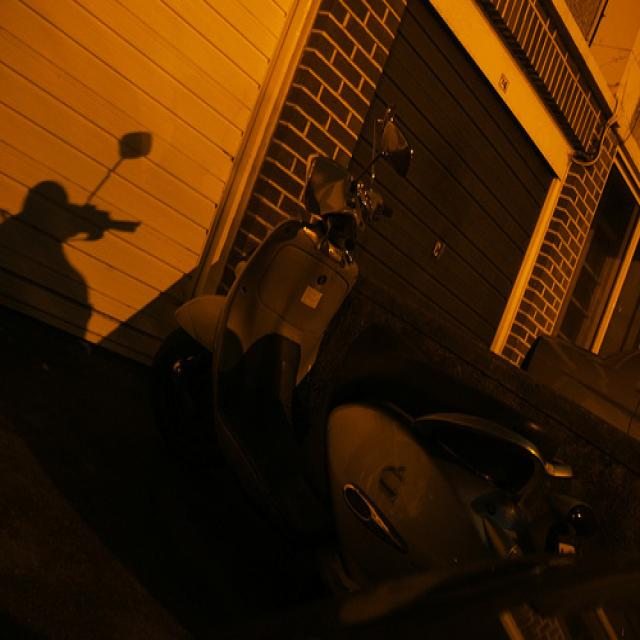Motorbike: (117, 92, 612, 640)
